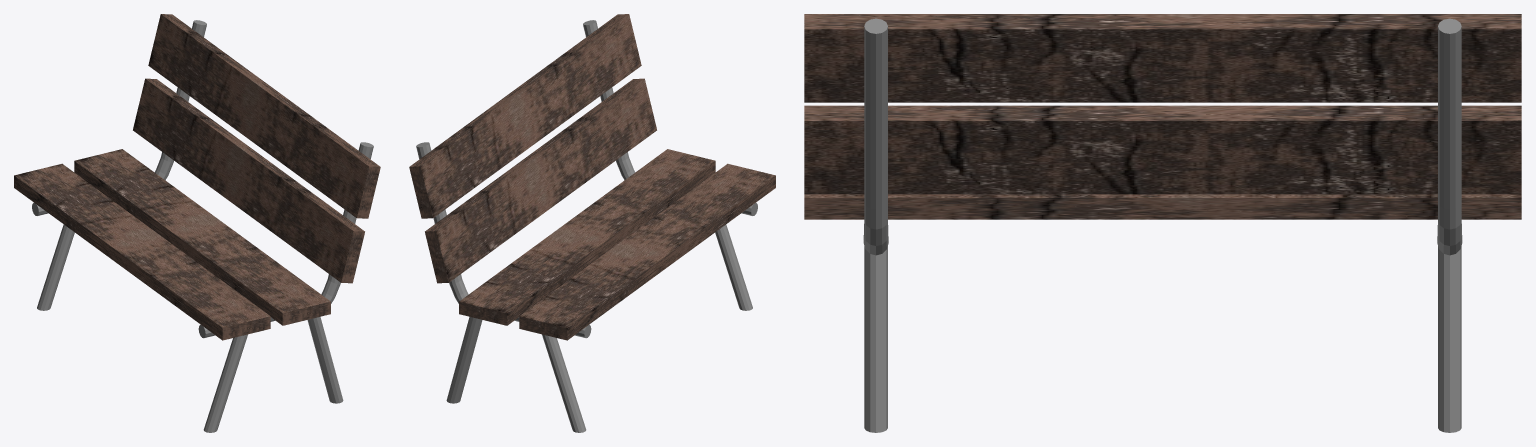
Rendered from bench.fbx.
3 views of the same model, side by side, from view 1: azimuth 30°, elevation 25°; view 2: azimuth 150°, elevation 25°; view 3: azimuth 270°, elevation 25° (orthographic). The views are drawn at different scales.
Visible parts, largest first — view 1: Cube; view 2: Cube; view 3: Cube.
Boxes of the visible parts, <box> form: Cube: <box>14,14,380,432</box>; Cube: <box>409,14,775,432</box>; Cube: <box>804,14,1521,432</box>.
Size of the model in its own units: 71.13 by 99.29 by 150.
Materials: 2 (1 with a texture image).
